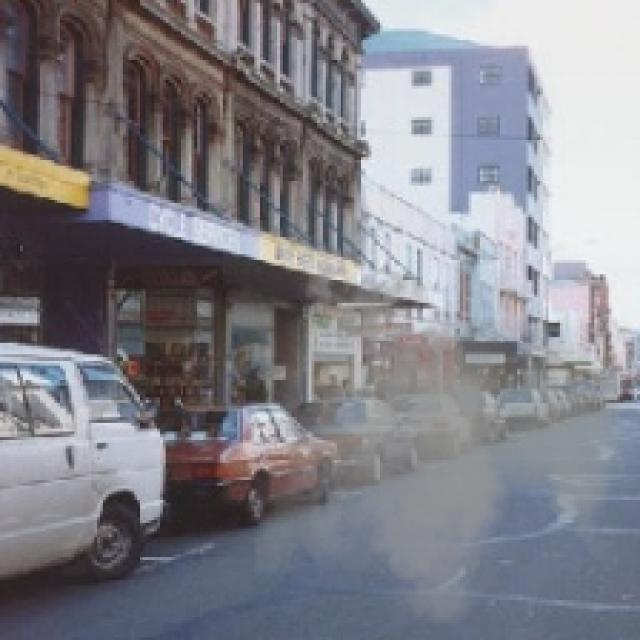Smoke: (255, 248, 634, 638)
